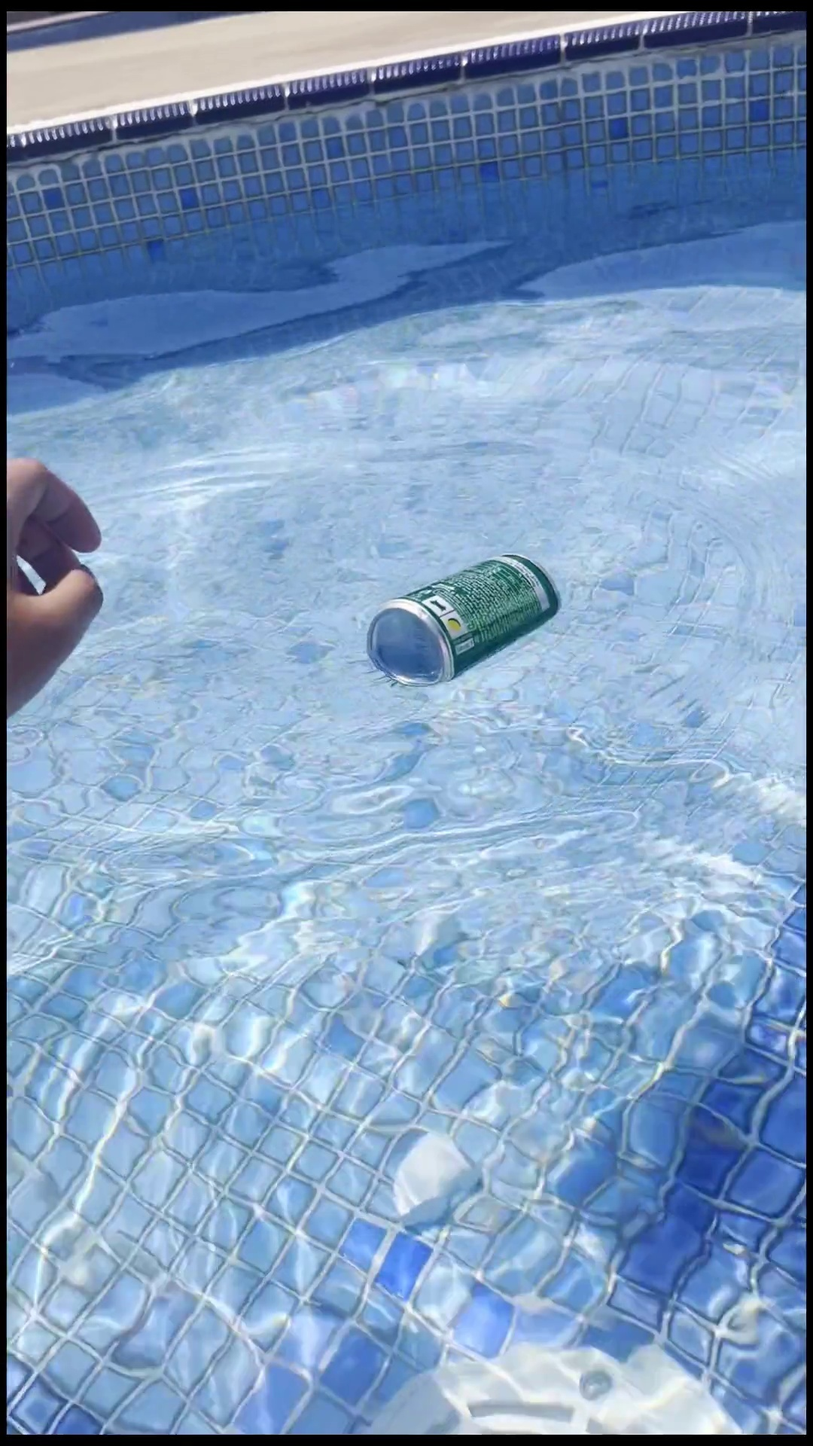debris: (355, 530, 562, 708)
